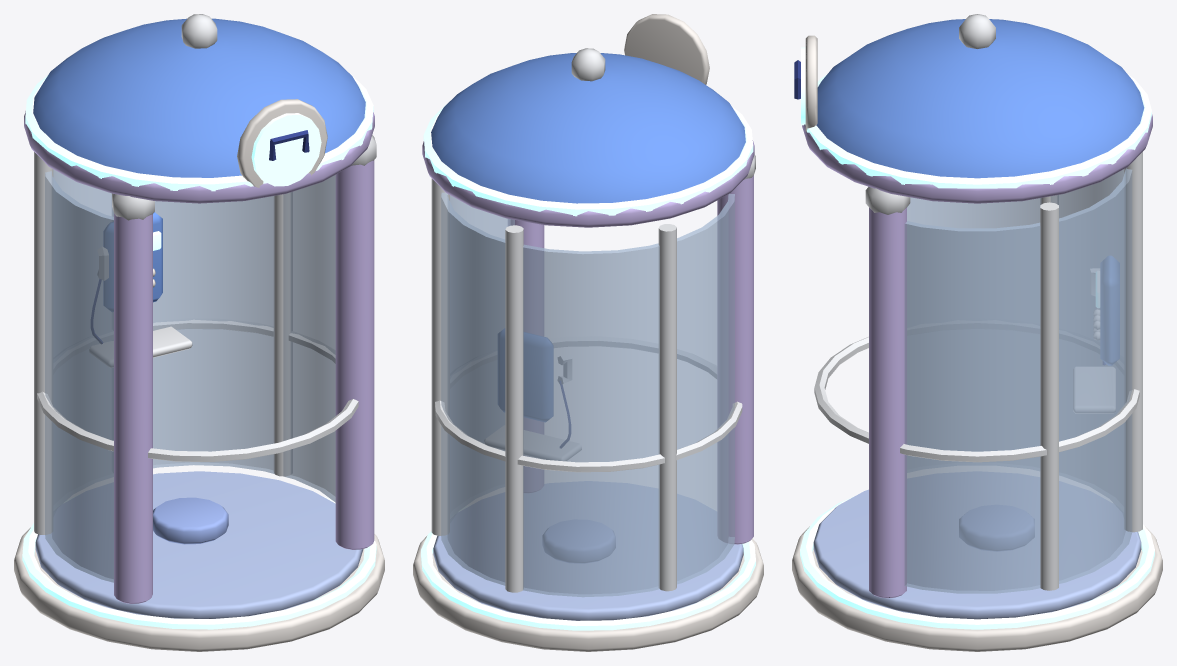
Rendered from phone_booth_capsule.glb.
3 views of the same model, side by side, from view 1: azimuth 30°, elevation 25°; view 2: azimuth 150°, elevation 25°; view 3: azimuth 270°, elevation 25° (orthographic). The views are drawn at different scales.
Parts seen in each view (by area): view 1: phone_booth_capsule; view 2: phone_booth_capsule; view 3: phone_booth_capsule.
Part boxes in pixels (x1,y1,x2,y2): phone_booth_capsule: [14, 14, 384, 651]; phone_booth_capsule: [413, 14, 763, 651]; phone_booth_capsule: [792, 14, 1162, 651].
Bounding box in the file's own units: 1.9 × 3.17 × 1.9.
